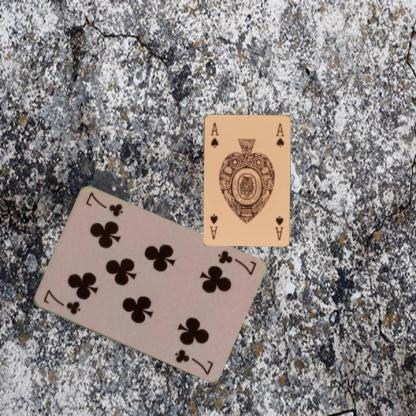7c: (214, 248, 258, 277), (40, 287, 81, 316)
As: (272, 213, 284, 241), (208, 120, 219, 148)
